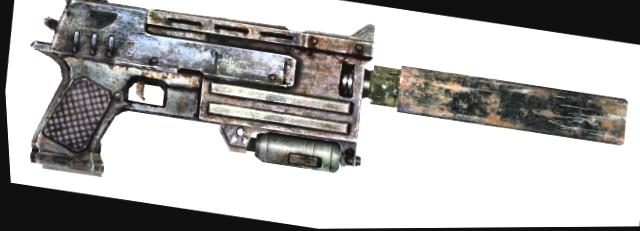pistol: (10, 0, 640, 231)
